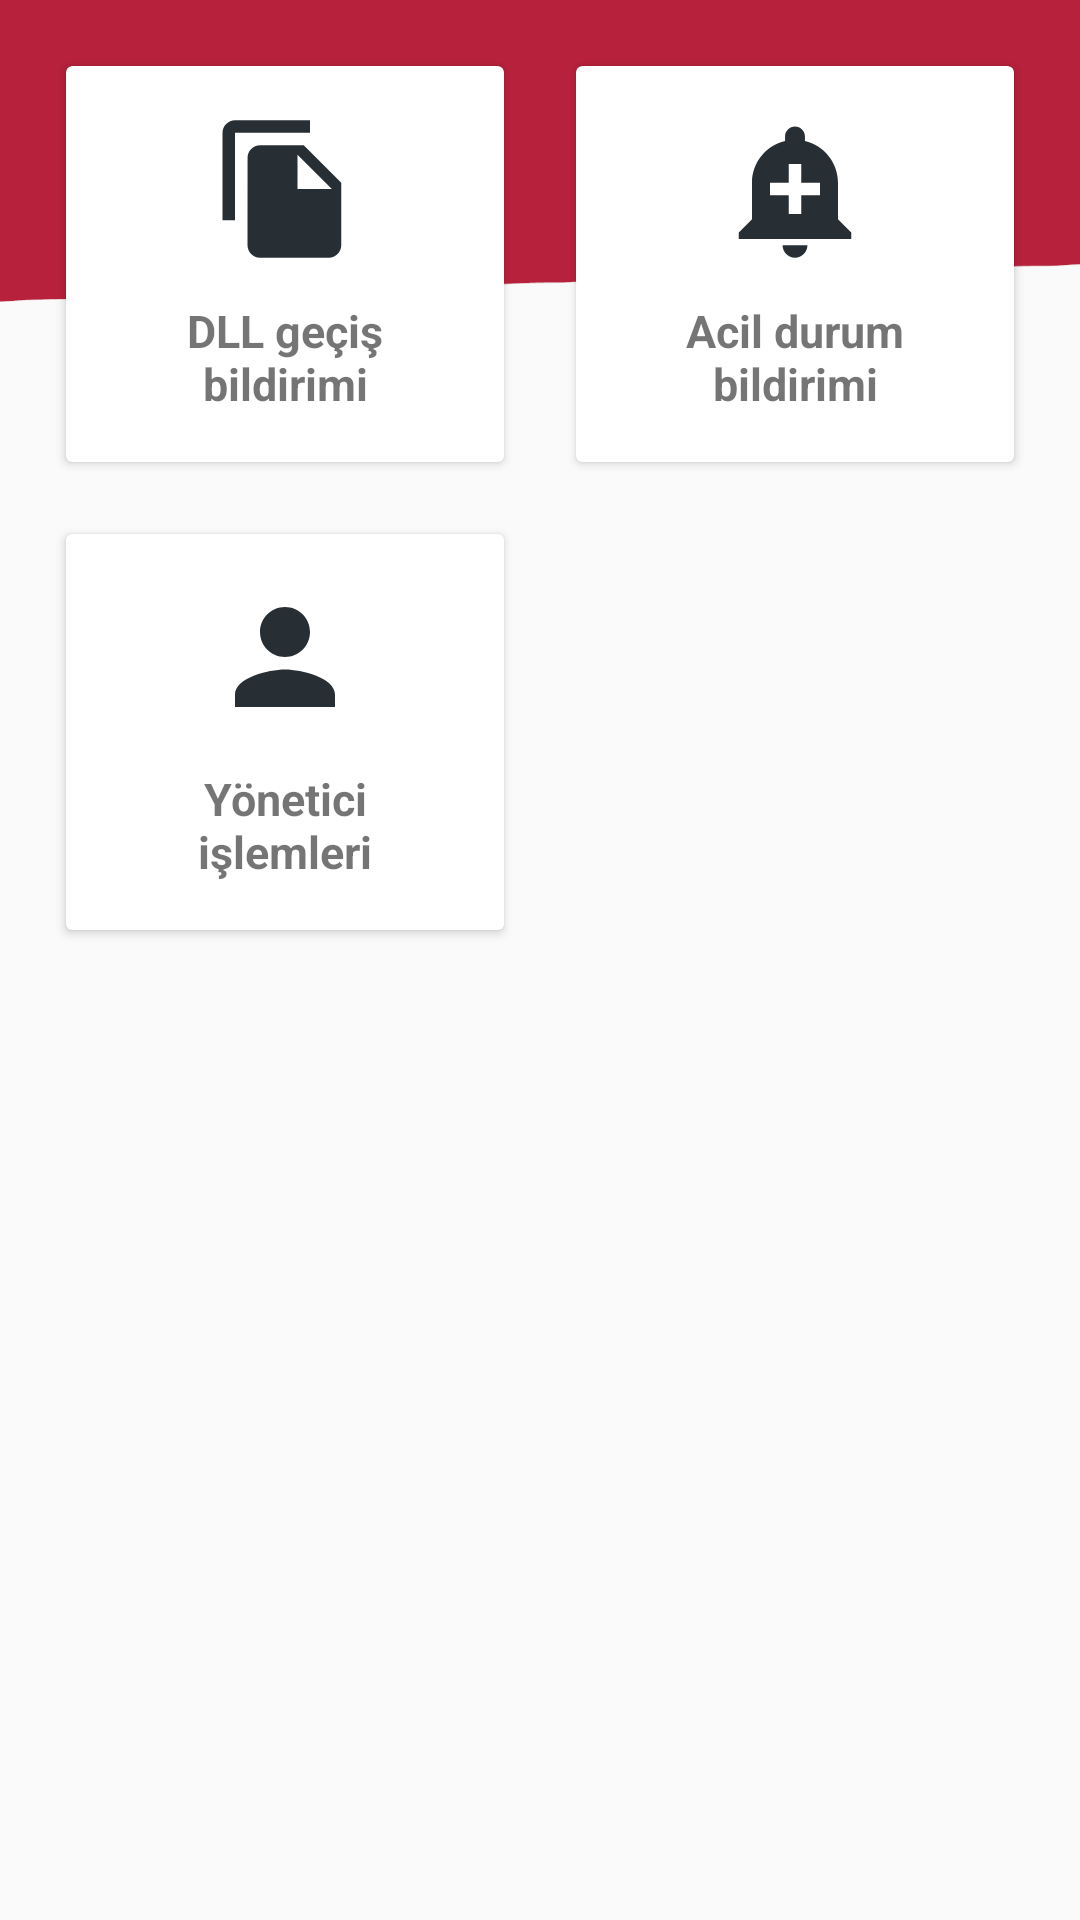

Icons on this 1080 × 1920 Android screen, each with the point to tap as (x,y):
add alert: (795,192)
file: (282,189)
person: (285,657)
